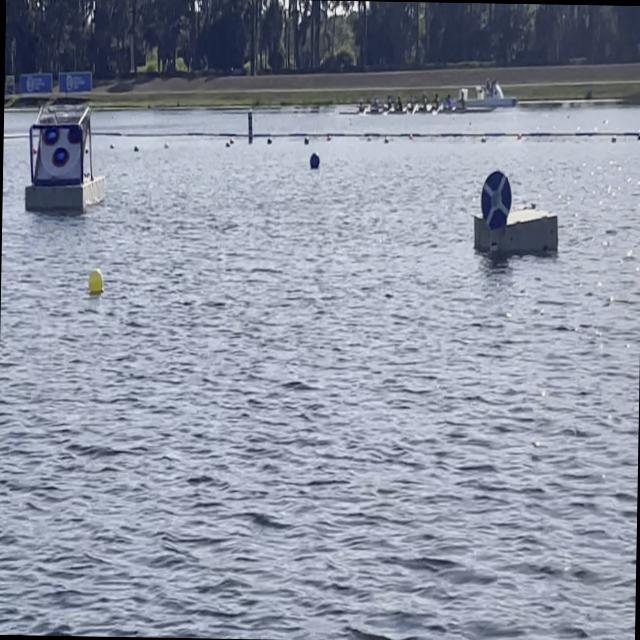buoy: (86, 268, 104, 296), (309, 151, 320, 170)
